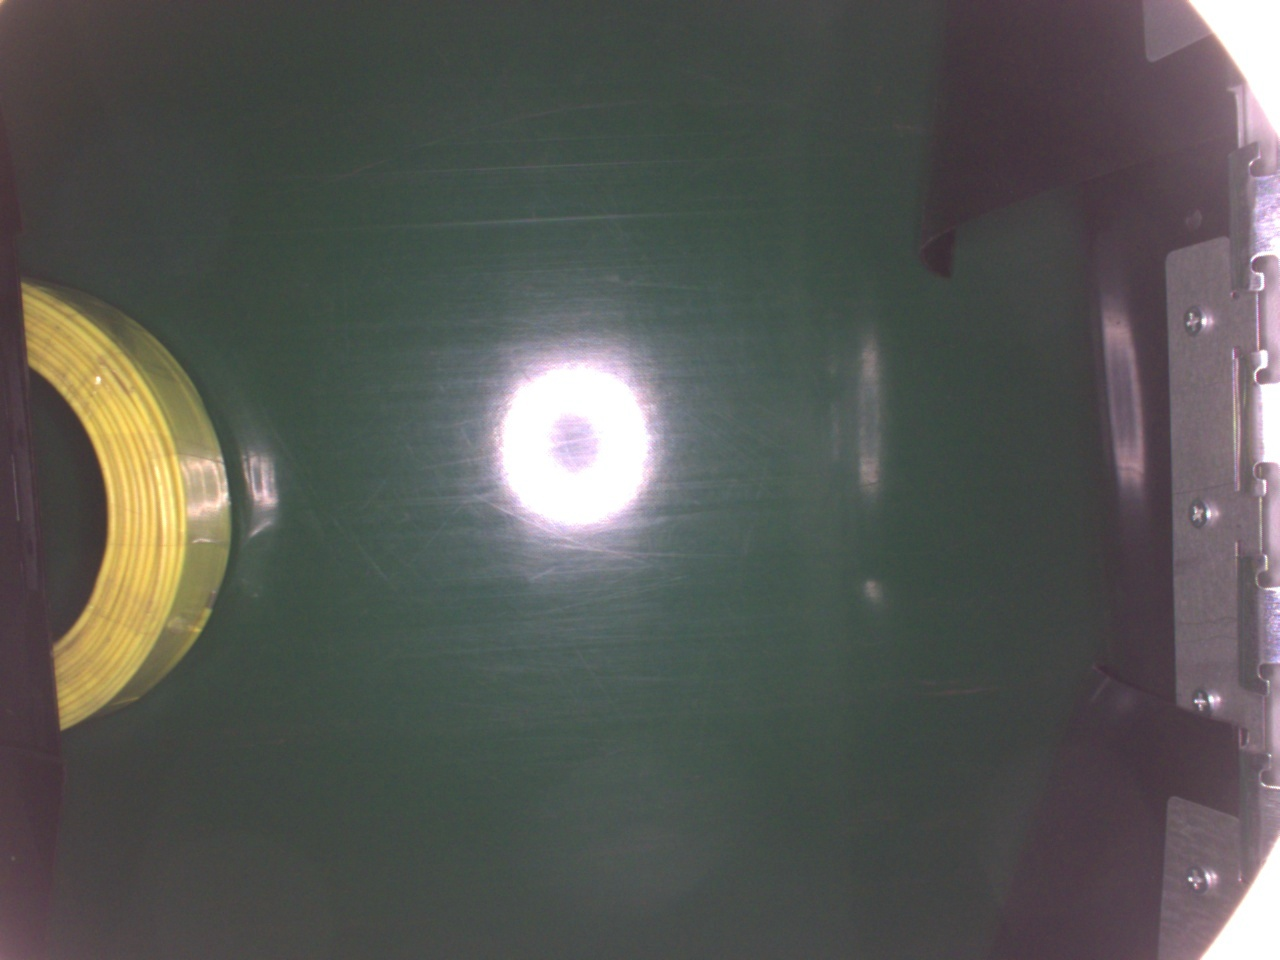yellow: (21, 270, 237, 738)
